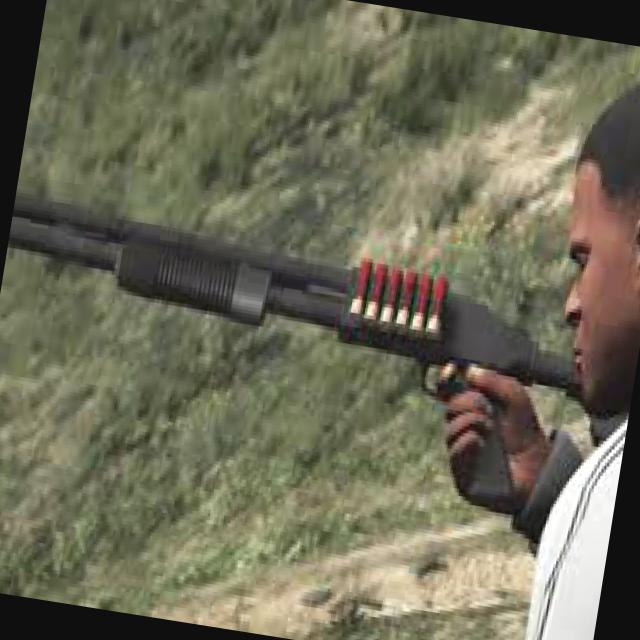long weapon: (8, 174, 607, 509)
